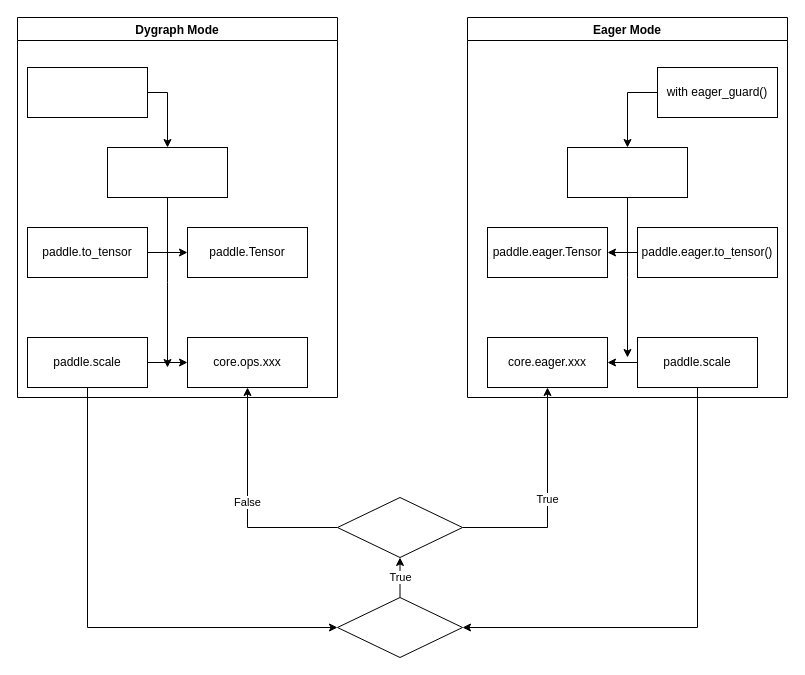
This 805x675 diagram has some shape labels left out. The centre of each missing label's shape, as x and y in pixels:
"_dygraph_tracer_" belongs at (167,172).
"_eager_mode_" belongs at (627,172).
"in_dygraph_mode?" belongs at (399,627).
"in_eager_mode?" belongs at (399,527).
"with dygraph_guard()" belongs at (87,92).
